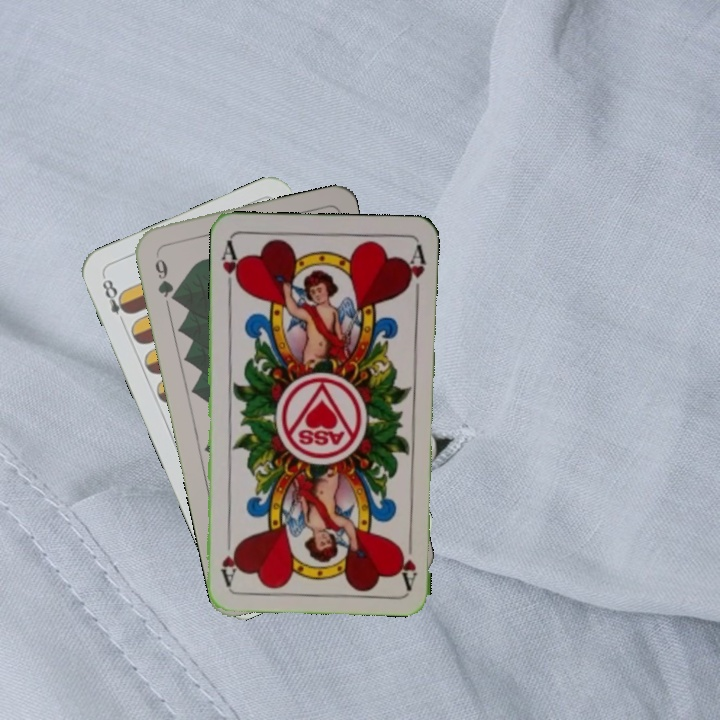E8: (98, 272, 133, 329)
G9: (151, 249, 179, 305)
HA: (218, 236, 244, 296), (395, 531, 420, 590)
